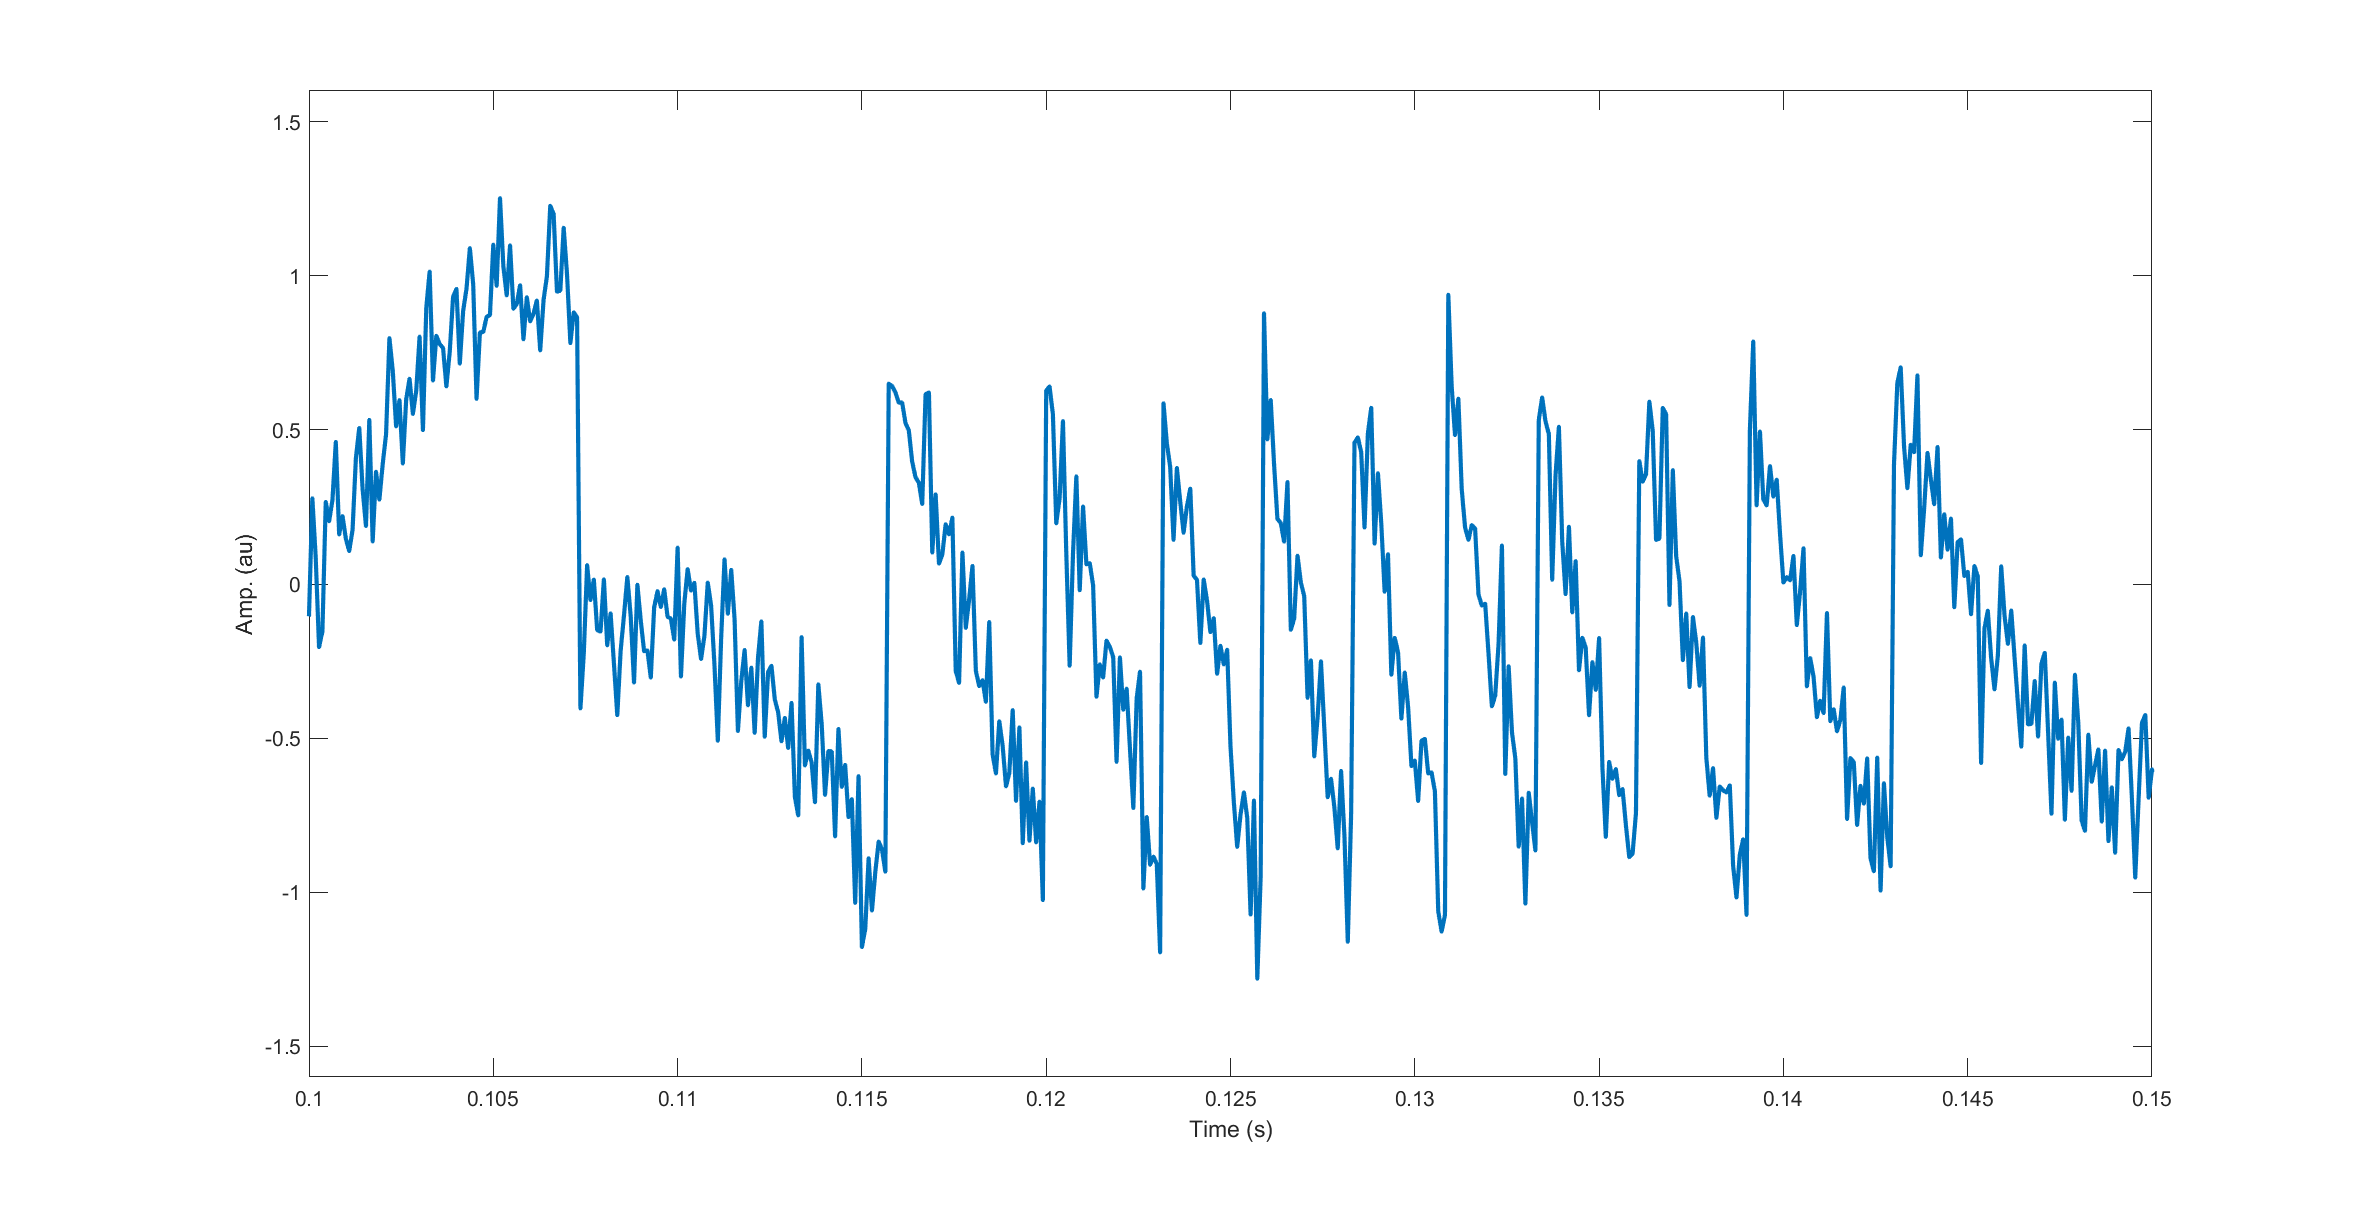negative_fringe: (1876, 355, 2076, 900), (875, 363, 1025, 894), (1738, 326, 1867, 895), (1147, 381, 1248, 974), (1434, 275, 1525, 924), (1032, 364, 1140, 898), (1255, 298, 1336, 978), (1631, 394, 1730, 903), (1525, 386, 1620, 892), (1344, 404, 1420, 943)
positive_fringe: (329, 171, 594, 715)
